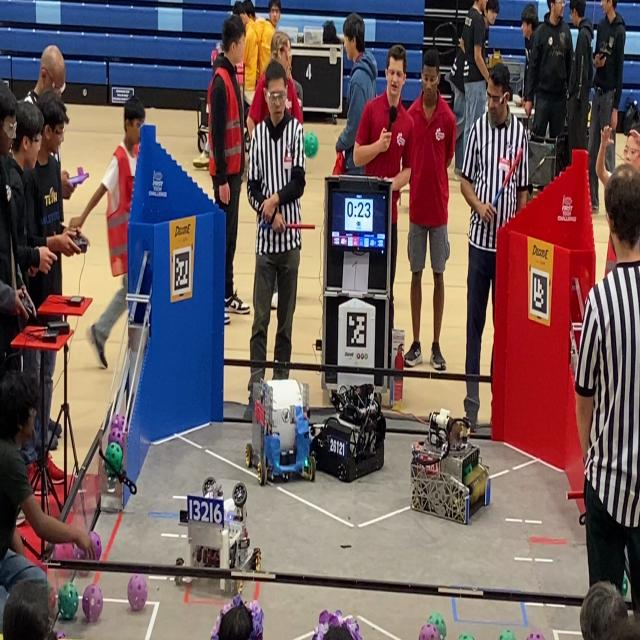artifact_green: (58, 582, 78, 620), (105, 443, 122, 475), (428, 613, 446, 639), (304, 132, 318, 158), (622, 573, 629, 597), (499, 630, 515, 639), (463, 464, 472, 477), (459, 633, 474, 639), (463, 464, 471, 475), (108, 474, 117, 482), (468, 463, 474, 472)
artifact_purple: (82, 585, 103, 622), (128, 575, 147, 611), (89, 531, 102, 560), (108, 428, 124, 449), (54, 543, 74, 559), (419, 624, 440, 639), (110, 414, 125, 431), (74, 546, 87, 560), (74, 546, 85, 559), (527, 632, 544, 639), (56, 632, 66, 639)
